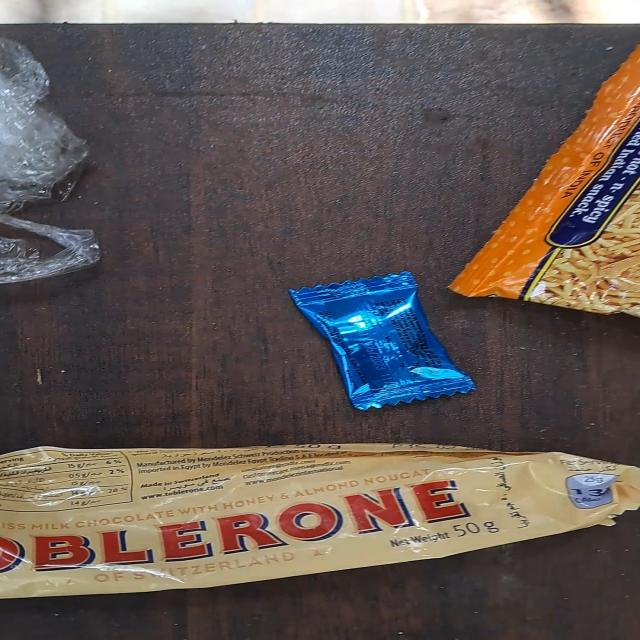Anorganik: (6, 433, 640, 590), (264, 270, 495, 420)
